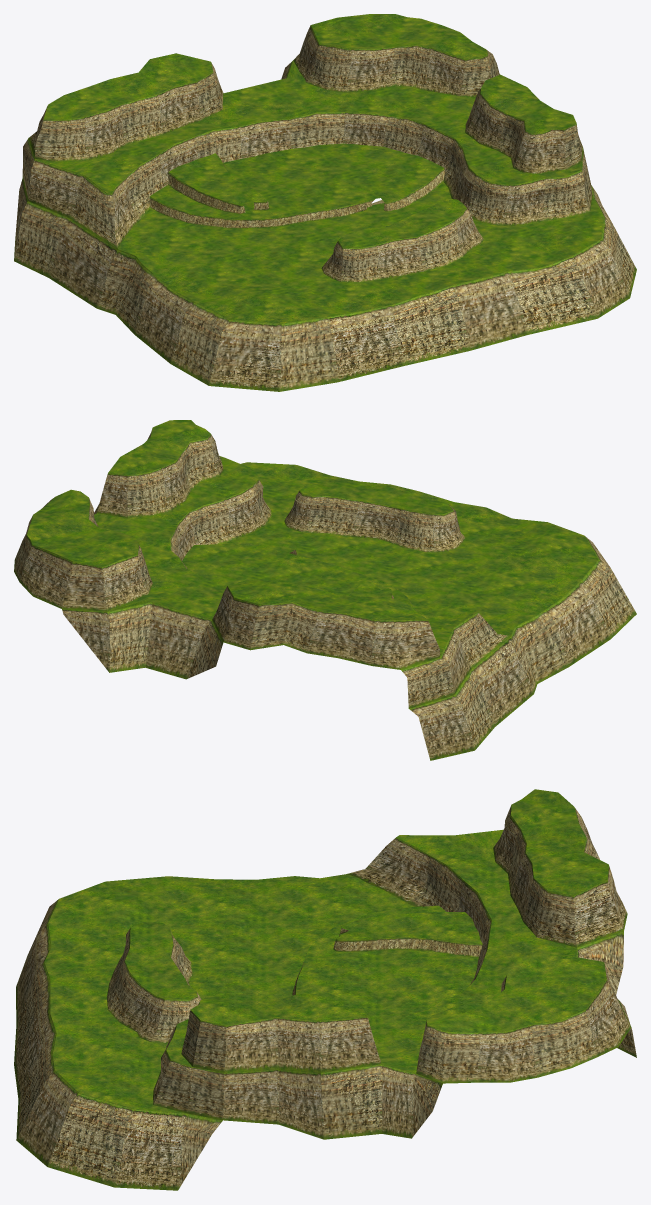
File: rd_island3.glb
3 views of the same model, one above another, from view 1: azimuth 30°, elevation 25°; view 2: azimuth 150°, elevation 25°; view 3: azimuth 270°, elevation 25° (orthographic). The views are drawn at different scales.
Visible parts, largest first — view 1: rd_island3; view 2: rd_island3; view 3: rd_island3.
Boxes of the visible parts, x1,y1,x2,y2 form: rd_island3: [14, 14, 636, 391]; rd_island3: [14, 420, 636, 760]; rd_island3: [14, 789, 636, 1190].
Bounding box in the file's own units: 186 × 50.33 × 180.
Materials: 4 (4 with a texture image).
